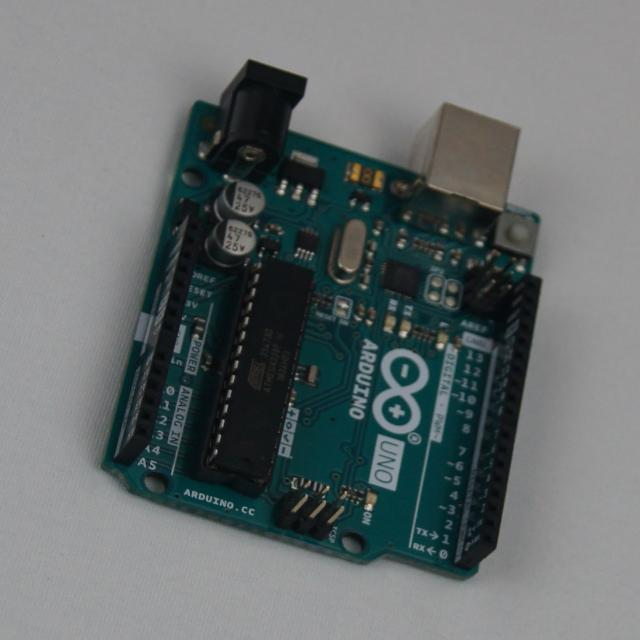Arduino Uno -Green-: (105, 62, 541, 578)
